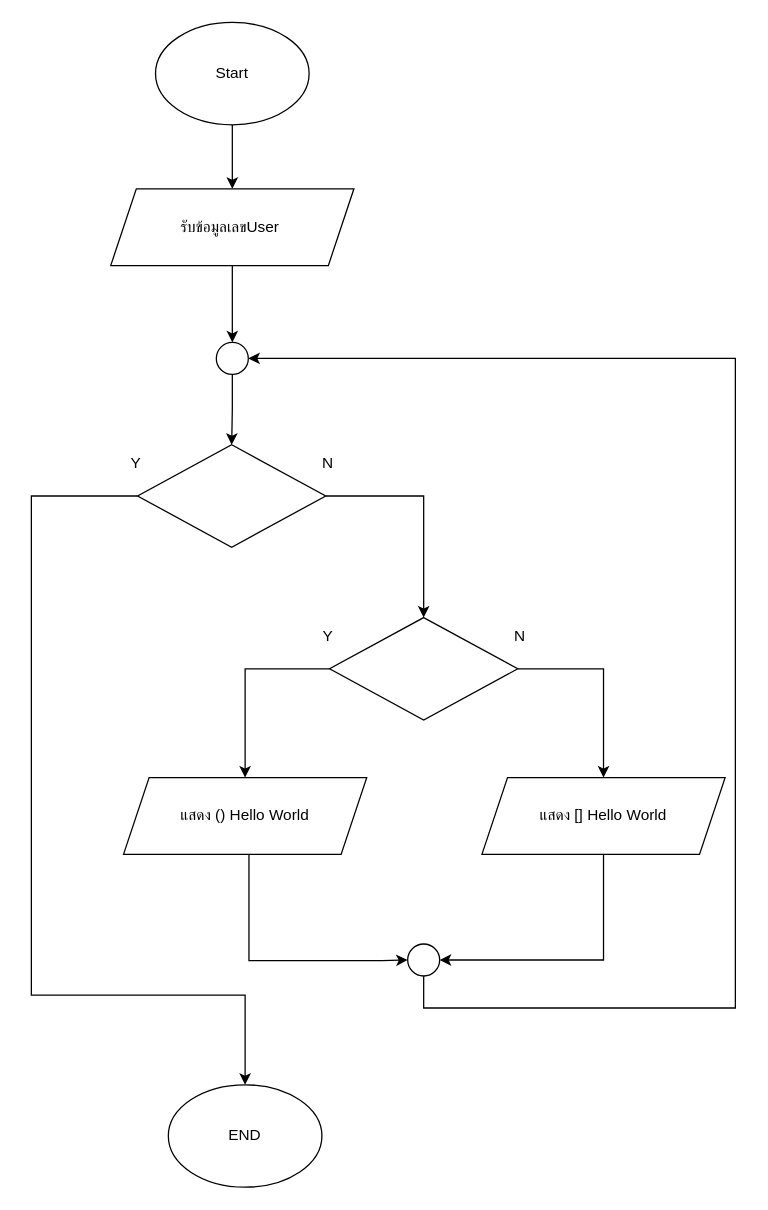
Some shapes in this 768 by 1210 pixel diagram are drawn without their labels. Each missing label, with the centre of its shape:
Loop จนถึงค่าที่ผู้ใช้กรอก: the point at 231,495
ข้อมูลลำดับ 1 มากกว่า ข้อมูลลำดับ 2 ไหม: the point at 423,668
